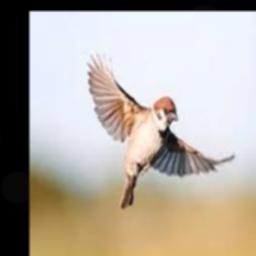Sparrow: (86, 49, 235, 208)
